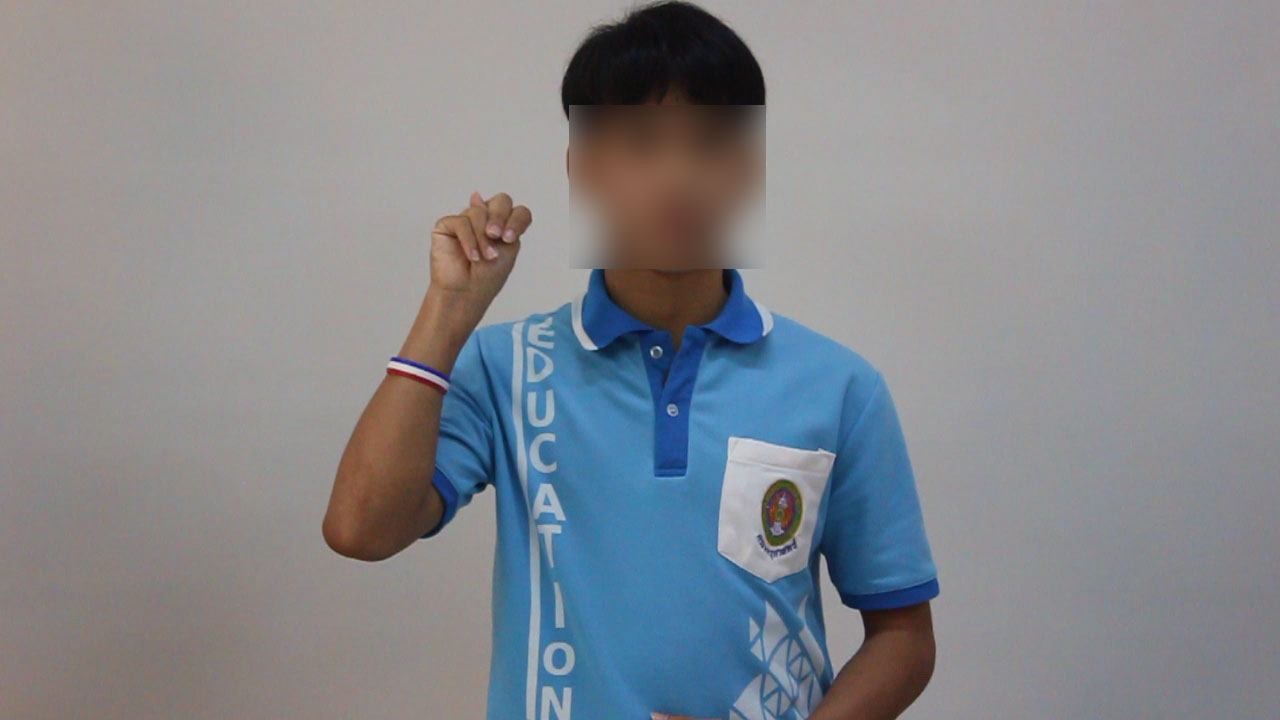nor: (411, 182, 552, 309)
